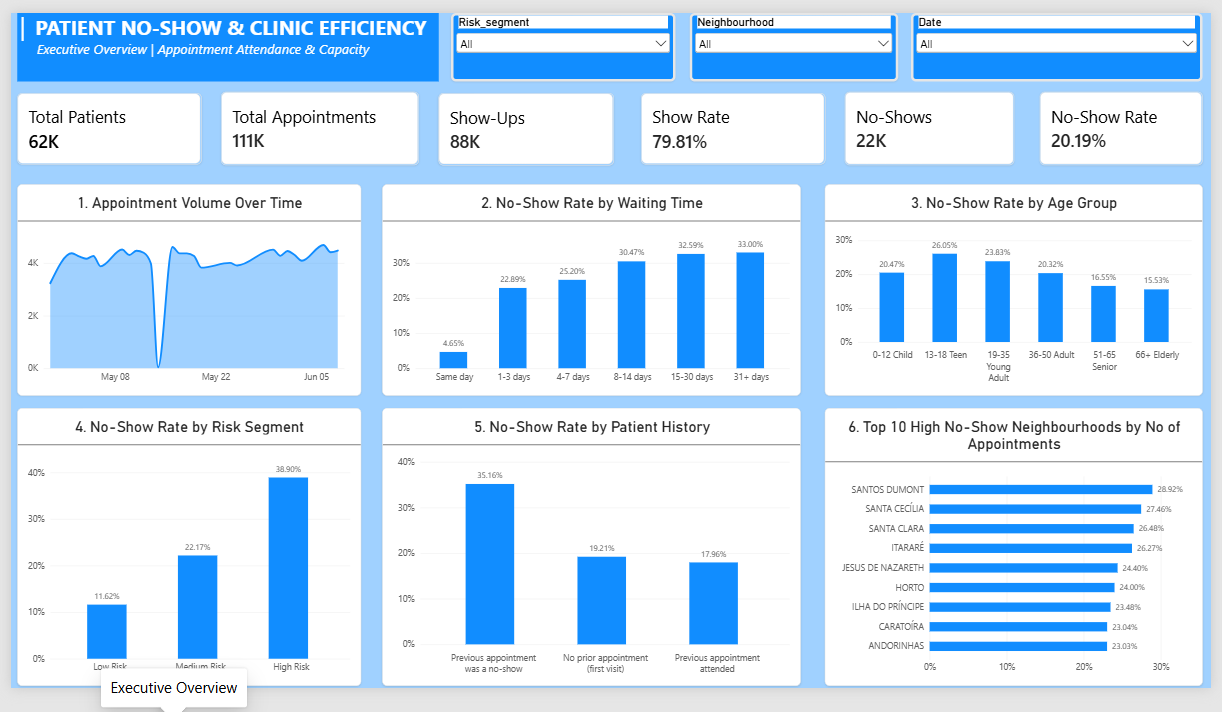

Layout of this report page (visuals, bound fields, positions):
{"tool":"powerbi","page":{"name":"Executive Overview","canvas":[1920,1080],"ordinal":0},"visuals":[{"type":"cardVisual","fields":{"Data":["FactAppointments.Total Appointments"]},"box":[336.6,126.7,316.7,117.6],"z":0},{"type":"cardVisual","fields":{"Data":["FactAppointments.Total Patients"]},"box":[10.9,128.5,295,114],"z":1000},{"type":"cardVisual","fields":{"Data":["FactAppointments.No-Shows"]},"box":[1333.7,126.7,271.4,117.6],"z":2000},{"type":"cardVisual","fields":{"Data":["FactAppointments.Show-Ups"]},"box":[684.1,128.5,280.5,115.8],"z":3000},{"type":"cardVisual","fields":{"Data":["FactAppointments.No-Show Rate"]},"box":[1646.8,126.7,260.6,117.6],"z":4000},{"type":"cardVisual","fields":{"Data":["FactAppointments.Show Rate"]},"box":[1008,128.5,295,114],"z":5000},{"type":"textbox","box":[9.3,0,674.1,109.3],"z":6000},{"type":"lineChart","title":"1. Appointment Volume Over Time","fields":{"Category":["DimDate.date"],"Y":["FactAppointments.Total Appointments"]},"box":[10.9,273.3,550.1,338.4],"z":7000},{"type":"clusteredColumnChart","title":"4. No-Show Rate by Risk Segment","fields":{"Category":["FactAppointments.risk_segment"],"Y":["FactAppointments.No-Show Rate"]},"box":[10.9,631.6,550.1,445.2],"z":8000},{"type":"clusteredColumnChart","title":"3. No-Show Rate by Age Group","fields":{"Category":["FactAppointments.age_group"],"Y":["FactAppointments.No-Show Rate"]},"box":[1303,273.3,604.4,338.4],"z":9000},{"type":"clusteredColumnChart","title":"2. No-Show Rate by Waiting Time","fields":{"Category":["FactAppointments.waiting_time_group"],"Y":["FactAppointments.No-Show Rate"]},"box":[593.6,273.3,669.6,338.4],"z":10000},{"type":"clusteredColumnChart","title":"5. No-Show Rate by Patient History","fields":{"Category":["FactAppointments.Patient History Segment"],"Y":["FactAppointments.No-Show Rate"]},"box":[593.6,631.6,669.6,445.2],"z":11000},{"type":"slicer","fields":{"Values":["DimDate.year_month"]},"box":[1440.7,0,466.7,109.3],"z":12000},{"type":"slicer","fields":{"Values":["DimLocation.neighbourhood"]},"box":[1085.2,0,333.3,109.3],"z":13000},{"type":"slicer","fields":{"Values":["FactAppointments.risk_segment"]},"box":[703.7,0,359.3,109.3],"z":14000},{"type":"clusteredBarChart","title":"6. Top 10 High No-Show Neighbourhoods by No of Appointments","fields":{"Category":["DimLocation.neighbourhood"],"Y":["FactAppointments.No-Show Rate"]},"box":[1303,631.6,604.4,445.2],"z":15000}]}

Visuals, with their boxes on the page's 1920x1080 design canvas (x1, y1, x2, y2). These are canvas units, not pixel positions in the 1222x712 screenshot, which may show the page scaled, cropped or inside an application window:
cardVisual - FactAppointments.Total Appointments: BBox(337, 127, 653, 244)
cardVisual - FactAppointments.Total Patients: BBox(11, 128, 306, 242)
cardVisual - FactAppointments.No-Shows: BBox(1334, 127, 1605, 244)
cardVisual - FactAppointments.Show-Ups: BBox(684, 128, 965, 244)
cardVisual - FactAppointments.No-Show Rate: BBox(1647, 127, 1907, 244)
cardVisual - FactAppointments.Show Rate: BBox(1008, 128, 1303, 242)
textbox: BBox(9, 0, 683, 109)
"1. Appointment Volume Over Time" lineChart: BBox(11, 273, 561, 612)
"4. No-Show Rate by Risk Segment" clusteredColumnChart: BBox(11, 632, 561, 1077)
"3. No-Show Rate by Age Group" clusteredColumnChart: BBox(1303, 273, 1907, 612)
"2. No-Show Rate by Waiting Time" clusteredColumnChart: BBox(594, 273, 1263, 612)
"5. No-Show Rate by Patient History" clusteredColumnChart: BBox(594, 632, 1263, 1077)
slicer - DimDate.year_month: BBox(1441, 0, 1907, 109)
slicer - DimLocation.neighbourhood: BBox(1085, 0, 1418, 109)
slicer - FactAppointments.risk_segment: BBox(704, 0, 1063, 109)
"6. Top 10 High No-Show Neighbourhoods by No of Appointments" clusteredBarChart: BBox(1303, 632, 1907, 1077)
